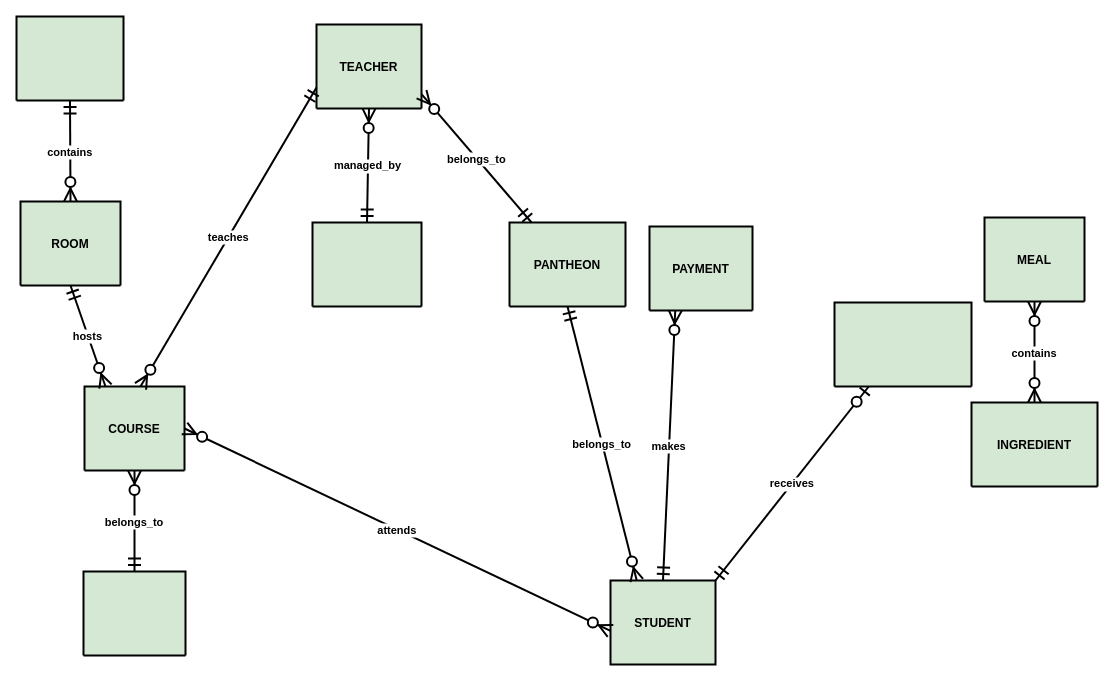
The diagram is 1114 pixels wide and 681 high, and some of its shapes have lost their labels. Here are the shapes that lost their labels. From the top down, the centre of each, then its label:
At (69,58): "BUILDING".
At (366,264): "MANAGER".
At (902,344): "SCHOLARSHIP".
At (134,613): "SUBJECT".
